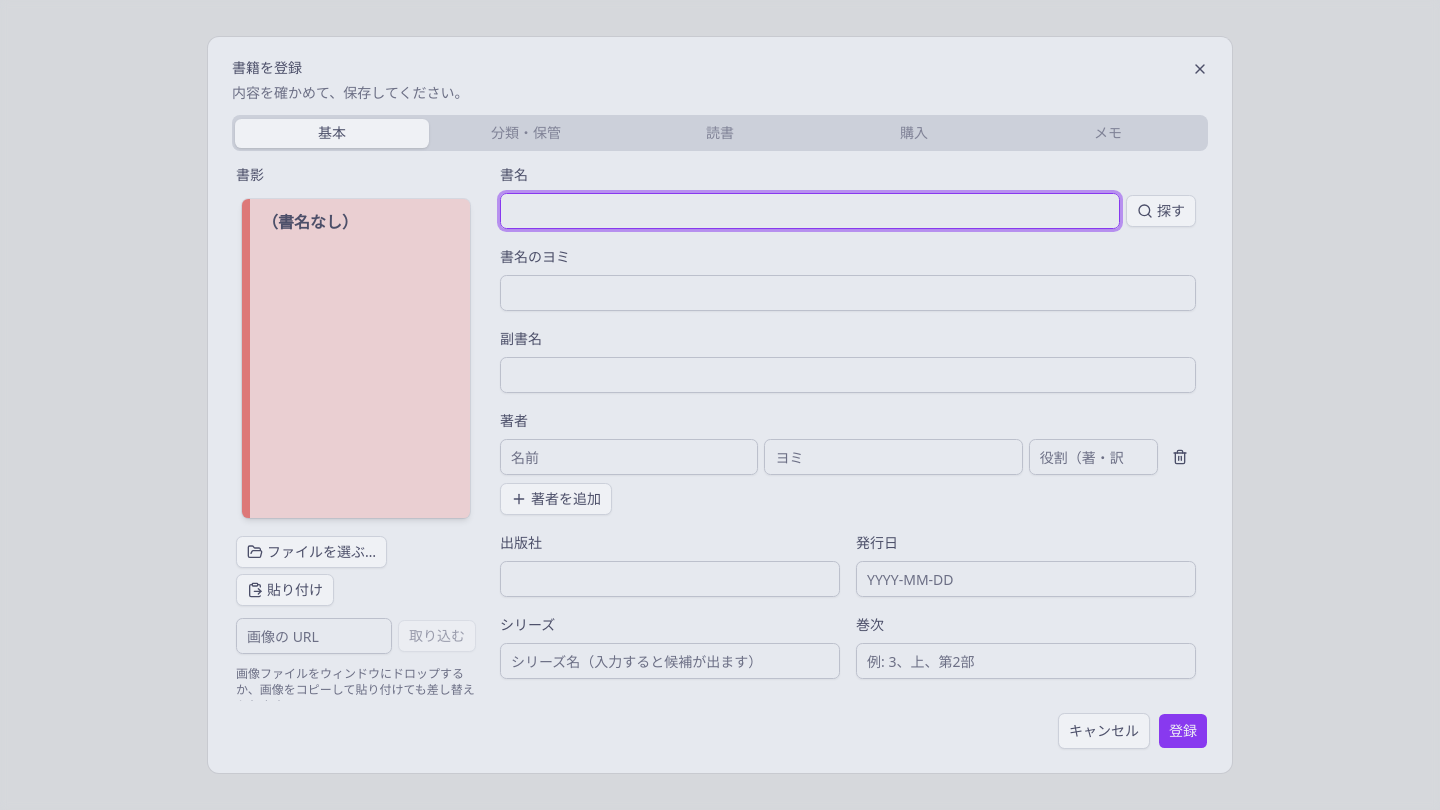
登録・編集フォーム › new: 書名・著者のキーワード検索（探す） › 書名・著者がなければ、探さず書名の欄にフォーカスする。あれば、書名と最初の著者を入れて開き、すぐ探す
Check: the field labelled "書名" is shown, box x1=500 y1=193 x2=1120 y2=229
Click the button "探す" at [1161, 211], box x1=1126 y1=195 x2=1196 y2=227
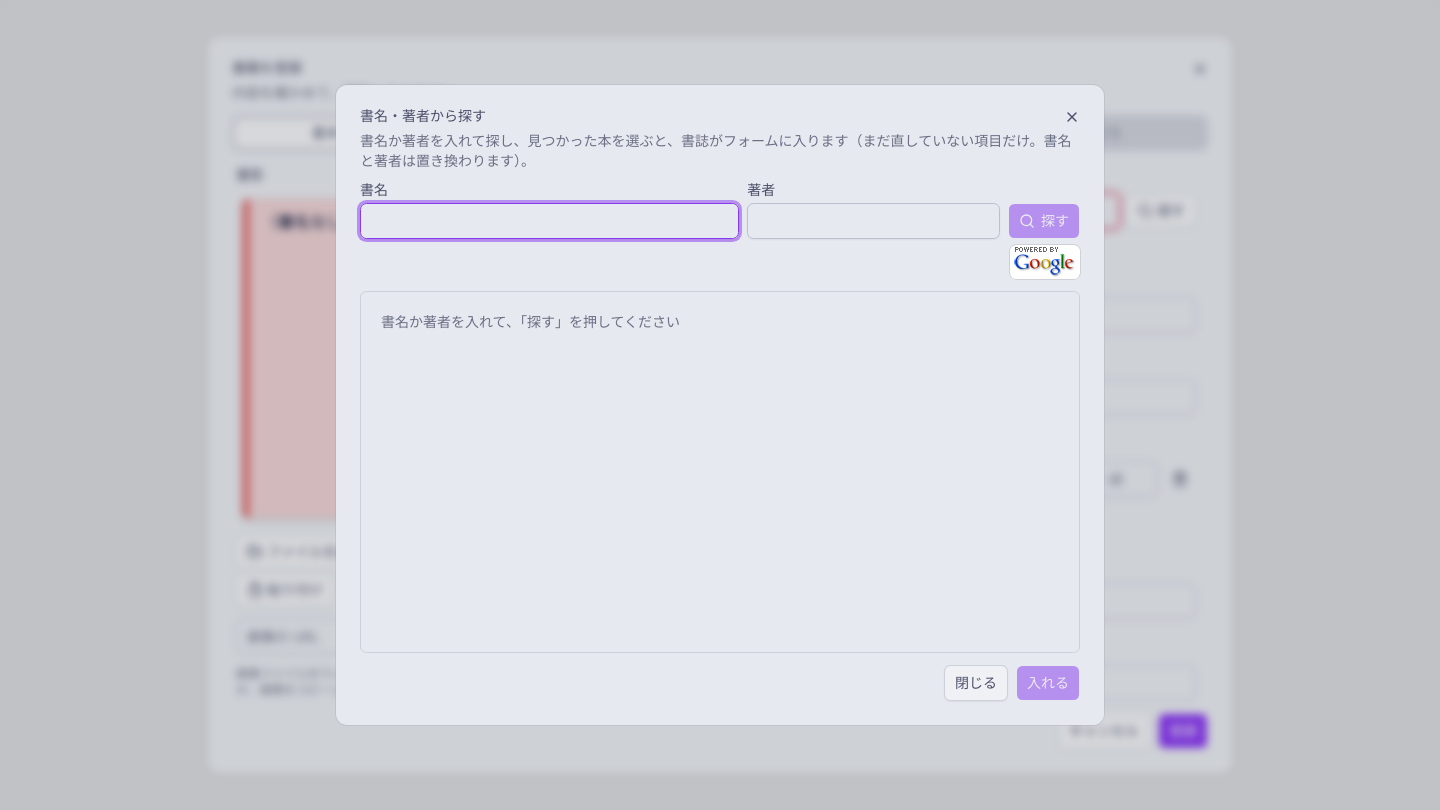
Click the button "閉じる" at [976, 683], box x1=944 y1=665 x2=1008 y2=701
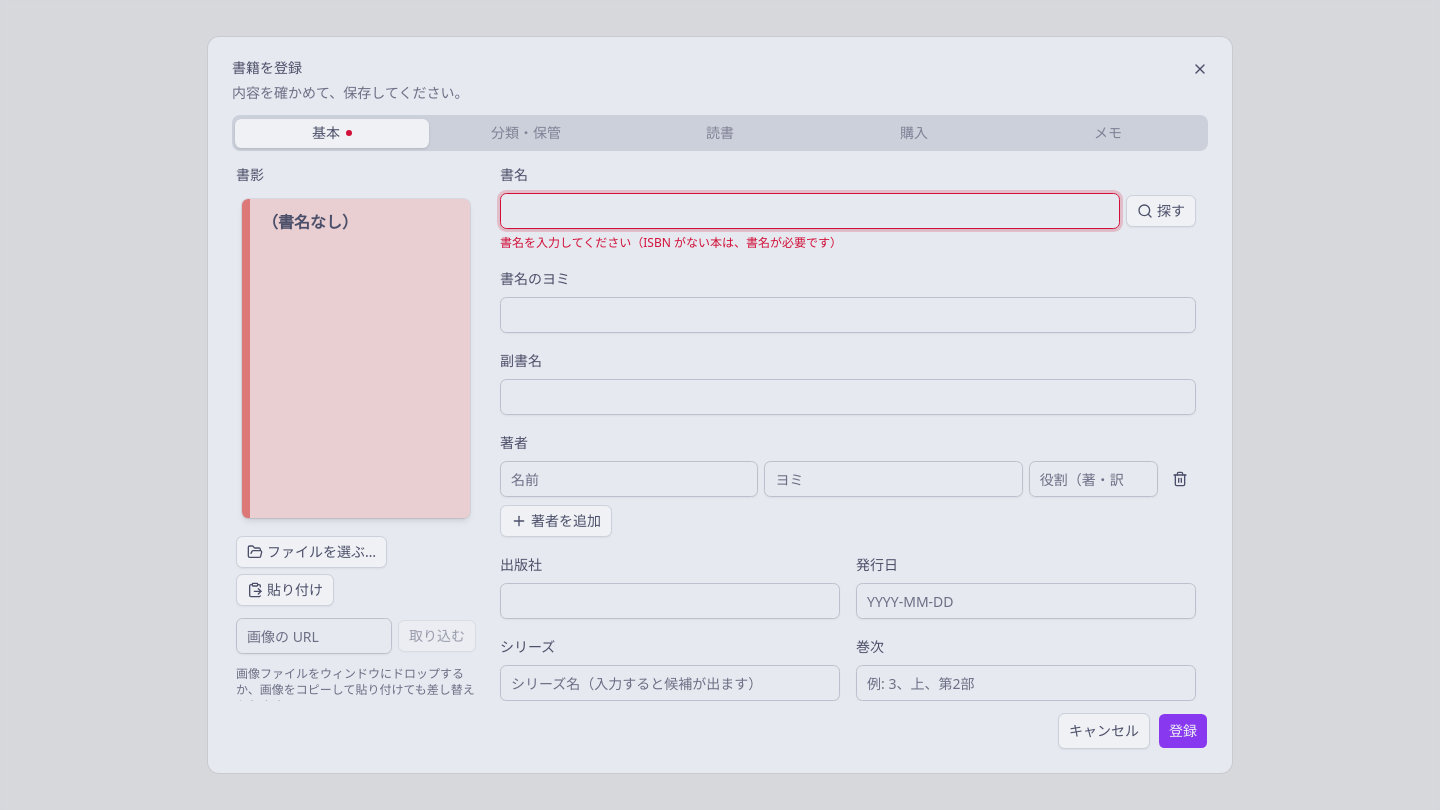
Check: the heading "書名・著者から探す" is gone
Type " こころ " into the field labelled "書名" at [810, 211], box x1=500 y1=193 x2=1120 y2=229
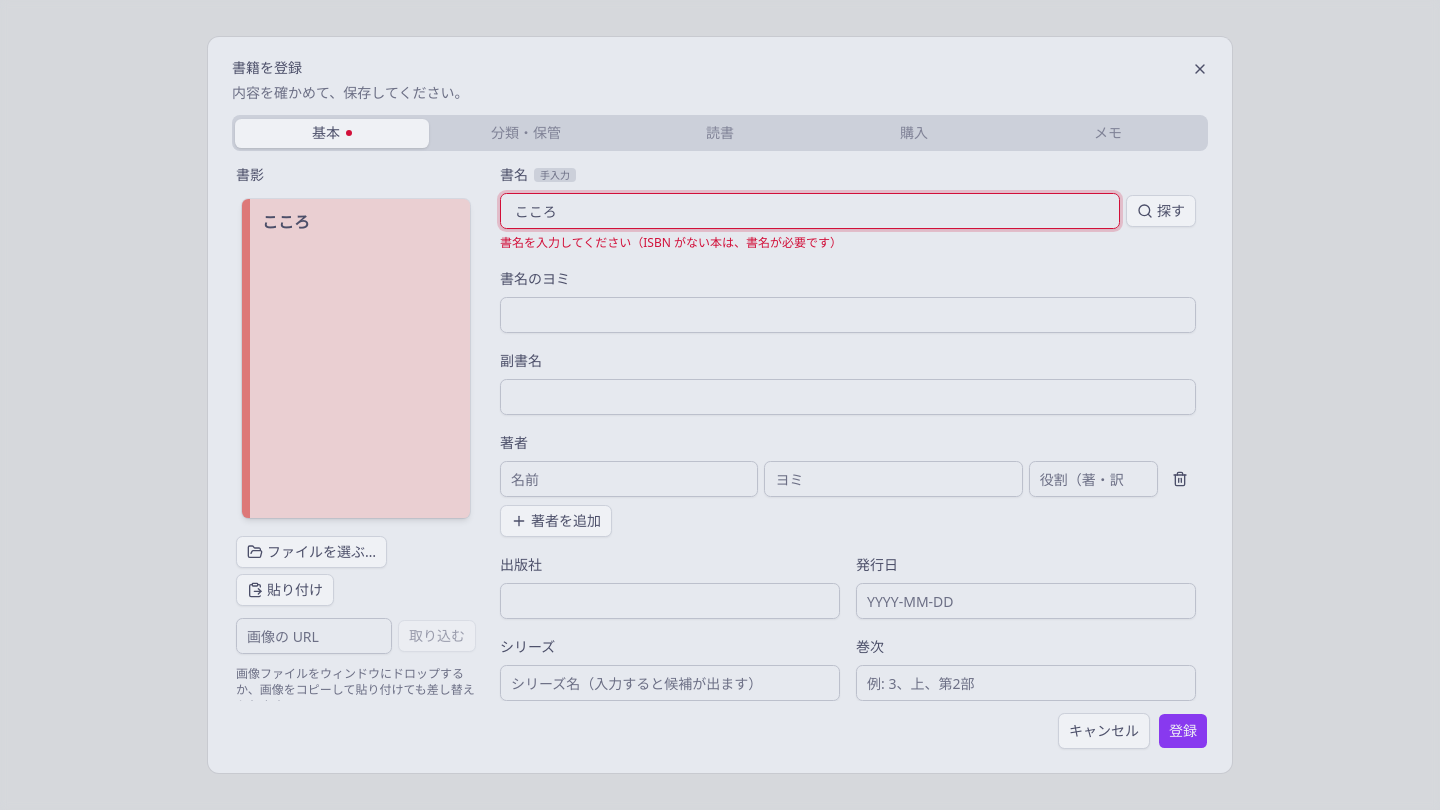
Type "夏目" into the field with placeholder "名前" at [629, 479], box x1=500 y1=461 x2=758 y2=497
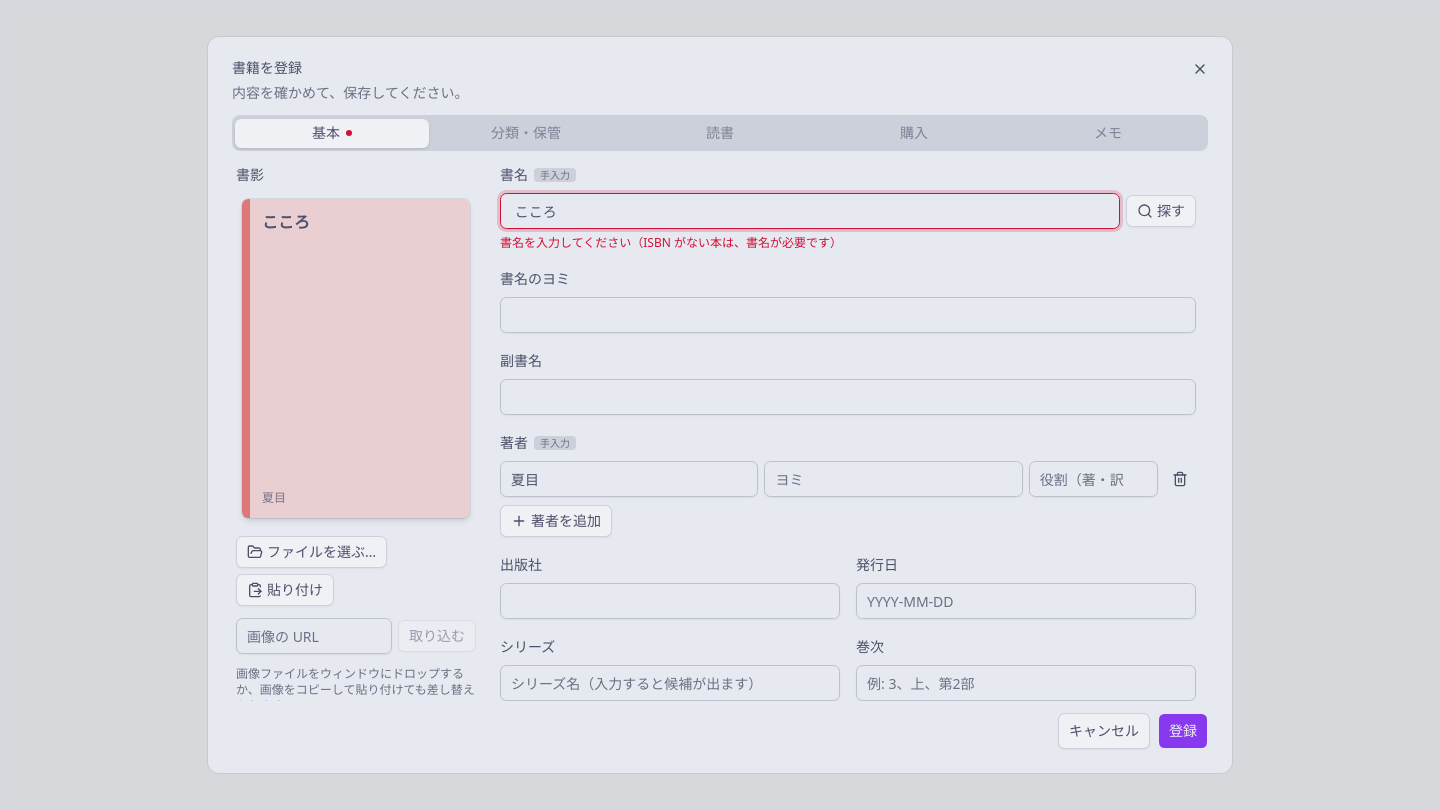
Click the button "探す" at [1161, 211], box x1=1126 y1=195 x2=1196 y2=227
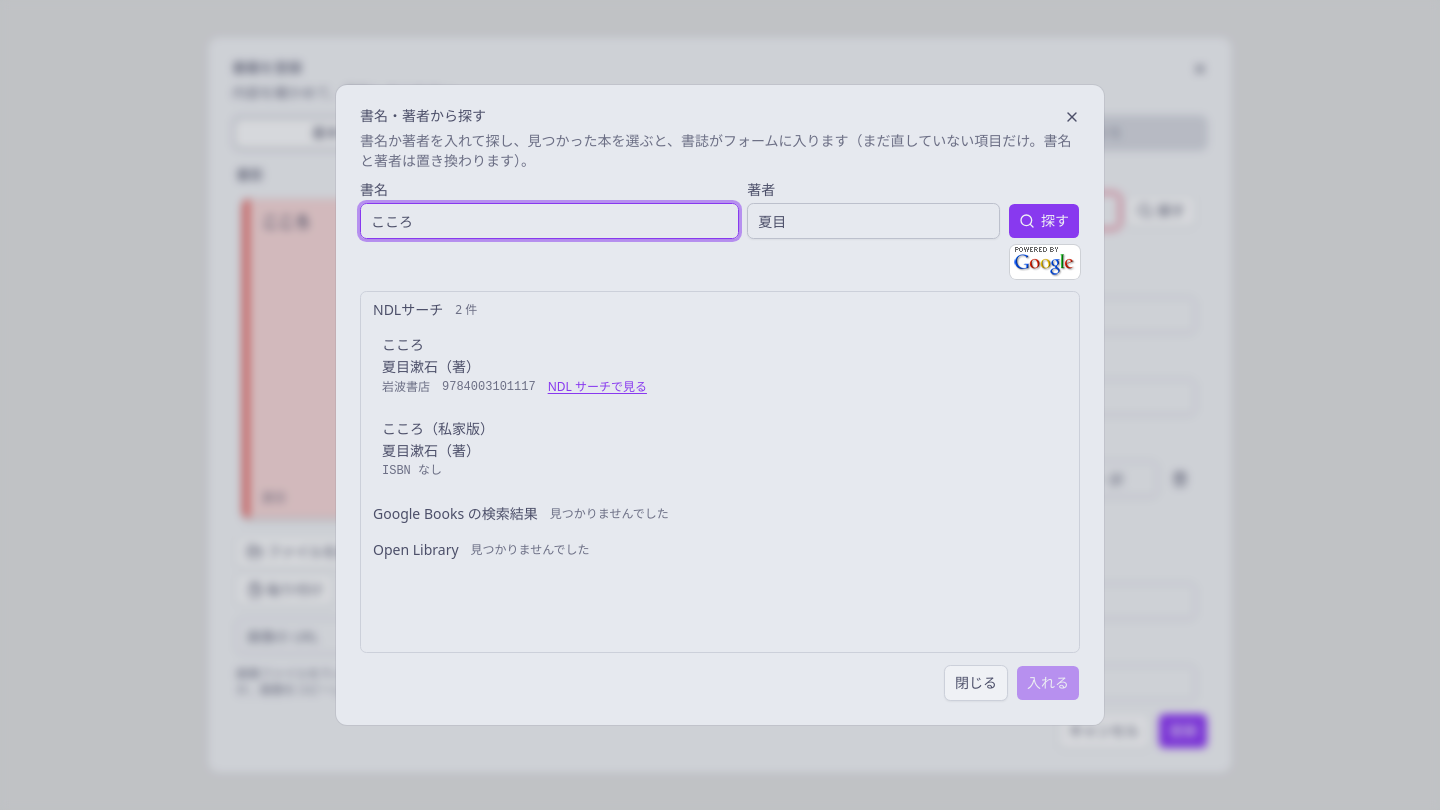
Check: the number of options is 2, box x1=382 y1=335 x2=647 y2=395; x1=382 y1=419 x2=494 y2=478
Check: the field labelled "書名" holds "こころ", box x1=360 y1=203 x2=739 y2=239
Check: the field labelled "著者" holds "夏目", box x1=747 y1=203 x2=1000 y2=239
